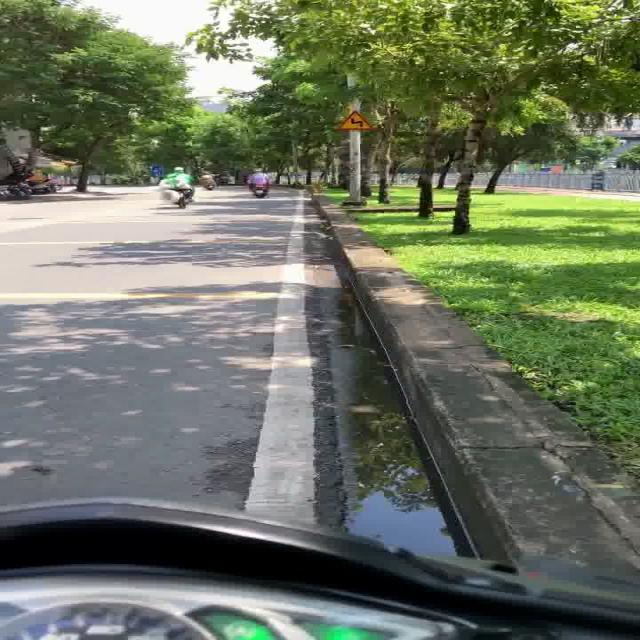Bien bao nhieu cho ngoat nguy hiem lien tiep: (332, 109, 379, 132)
